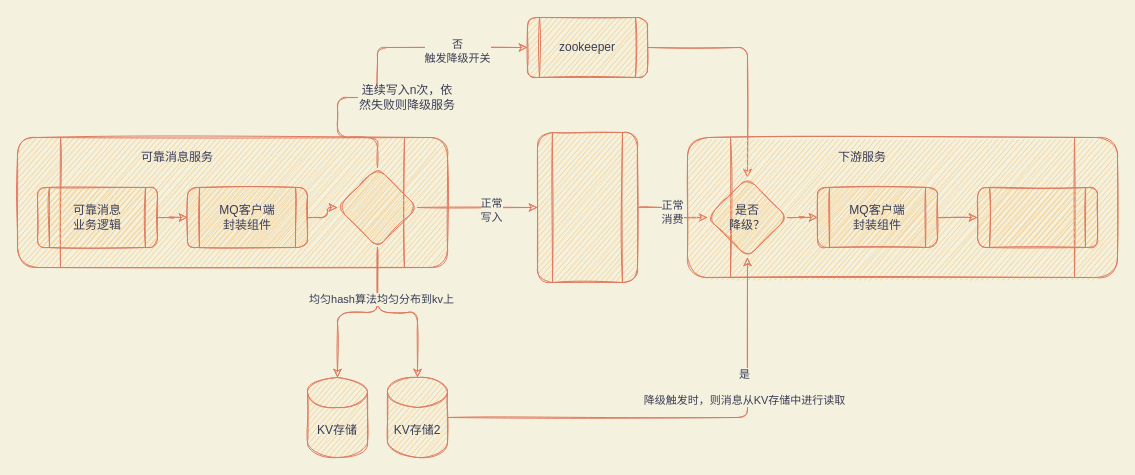
This 1135x475 diagram has some shape labels left out. Here are the shapes that lost their labels. From the top down, the centre of each, then its label:
the point at 377,207: 能否 写入
the point at 587,207: MQ中间件
the point at 1037,217: 下游业务逻辑
